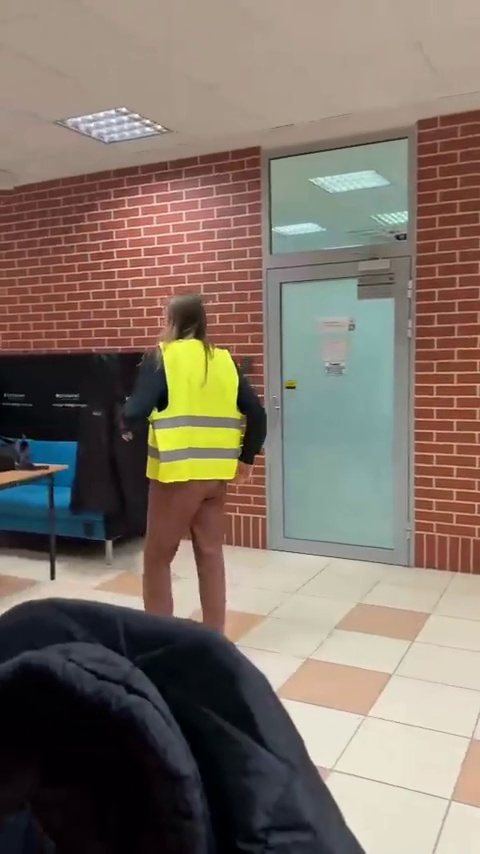vest: (132, 295, 278, 621)
